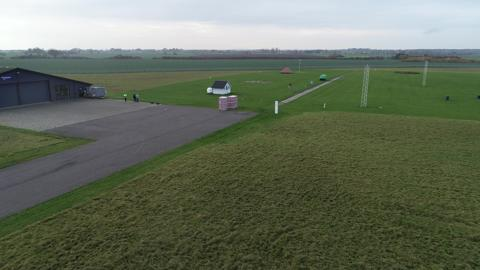RockwoolPallet: (227, 94, 237, 108)
